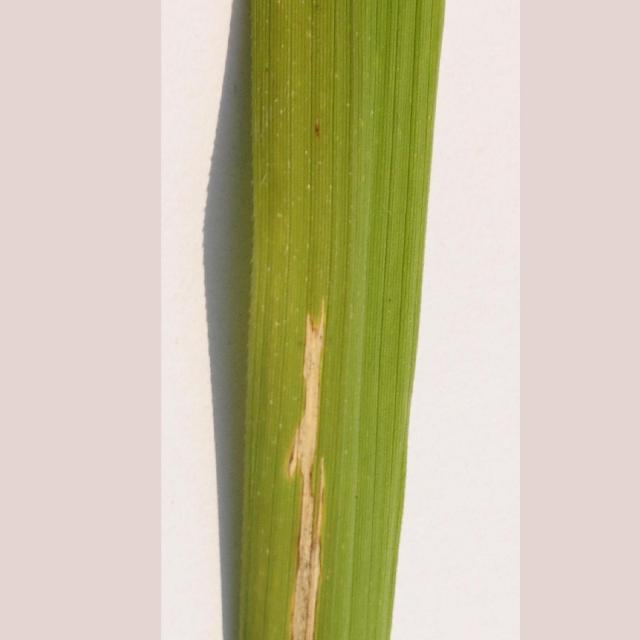leaf blight: (268, 301, 358, 640)
